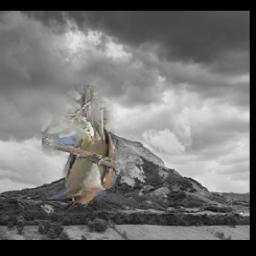Cuckoo: (42, 86, 115, 203)
